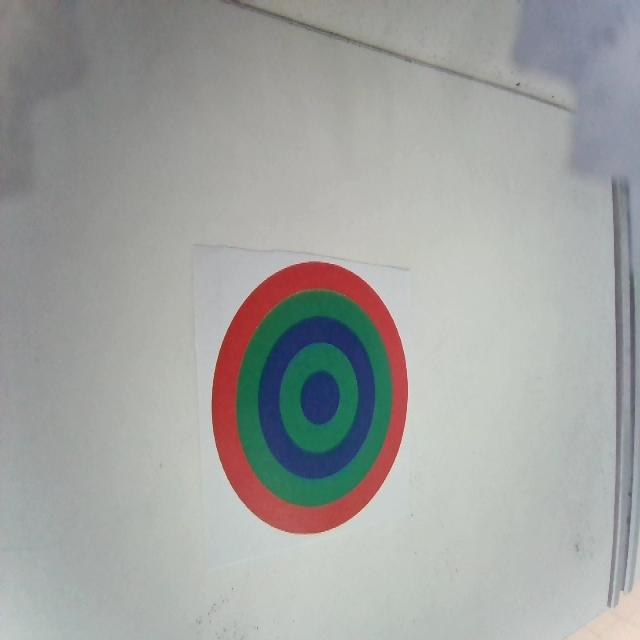cogn: (212, 259, 408, 534)
